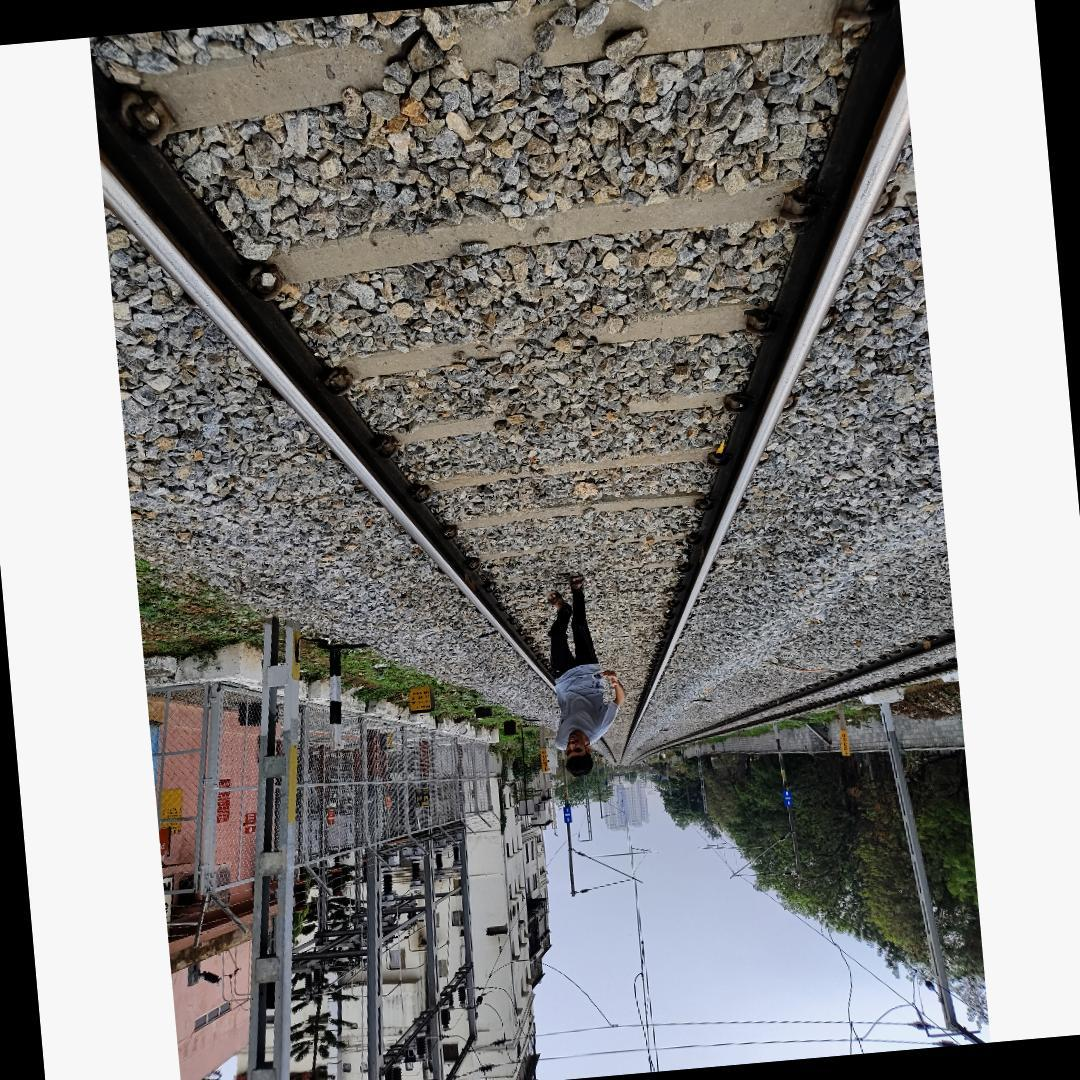standing: (537, 570, 633, 779)
track: (90, 0, 911, 785)
